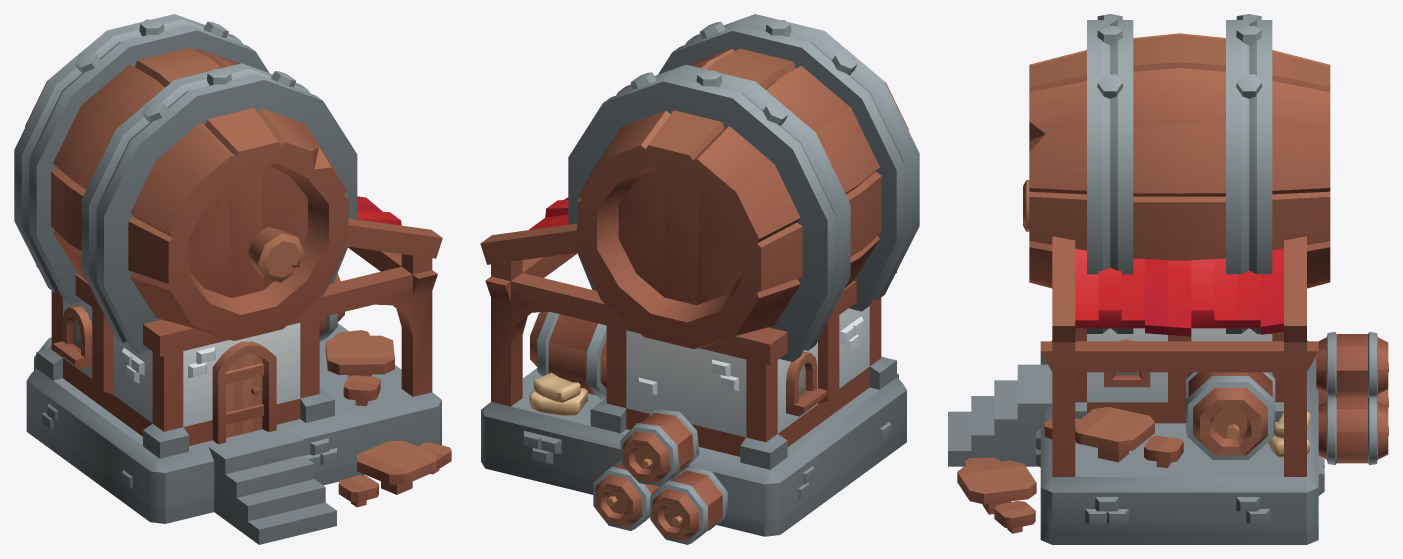
Rendered from diner.glb.
3 renders of one model, left to right at view 1: azimuth 30°, elevation 25°; view 2: azimuth 150°, elevation 25°; view 3: azimuth 270°, elevation 25°, orthographic. The views are drawn at different scales.
Parts seen in each view (by area): view 1: building_tavern_red; view 2: building_tavern_red; view 3: building_tavern_red.
Part boxes in pixels (bbox=[...]): building_tavern_red: bbox=[14, 14, 451, 544]; building_tavern_red: bbox=[480, 14, 919, 544]; building_tavern_red: bbox=[948, 14, 1388, 544].
Size of the model in its own units: 1.17 by 1.4 by 1.33.
Materials: 1 (1 with a texture image).
